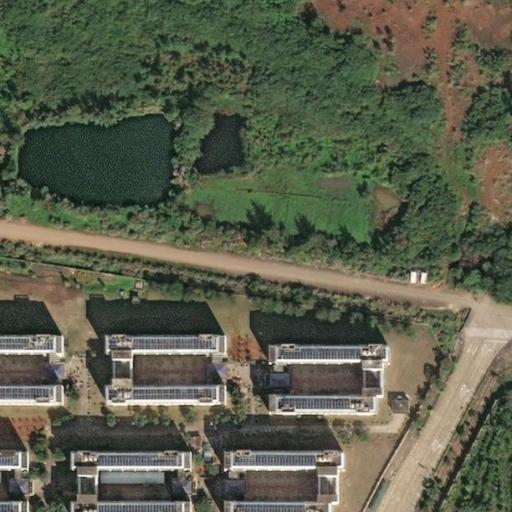building: (57, 467, 179, 502), (92, 381, 214, 412), (256, 393, 371, 423), (57, 427, 179, 453), (93, 339, 215, 365), (214, 452, 332, 478), (256, 350, 374, 376), (214, 494, 329, 512), (0, 333, 64, 353), (0, 497, 26, 512), (192, 376, 214, 393), (32, 372, 53, 388), (0, 466, 18, 482), (378, 398, 398, 412), (256, 392, 280, 402)
